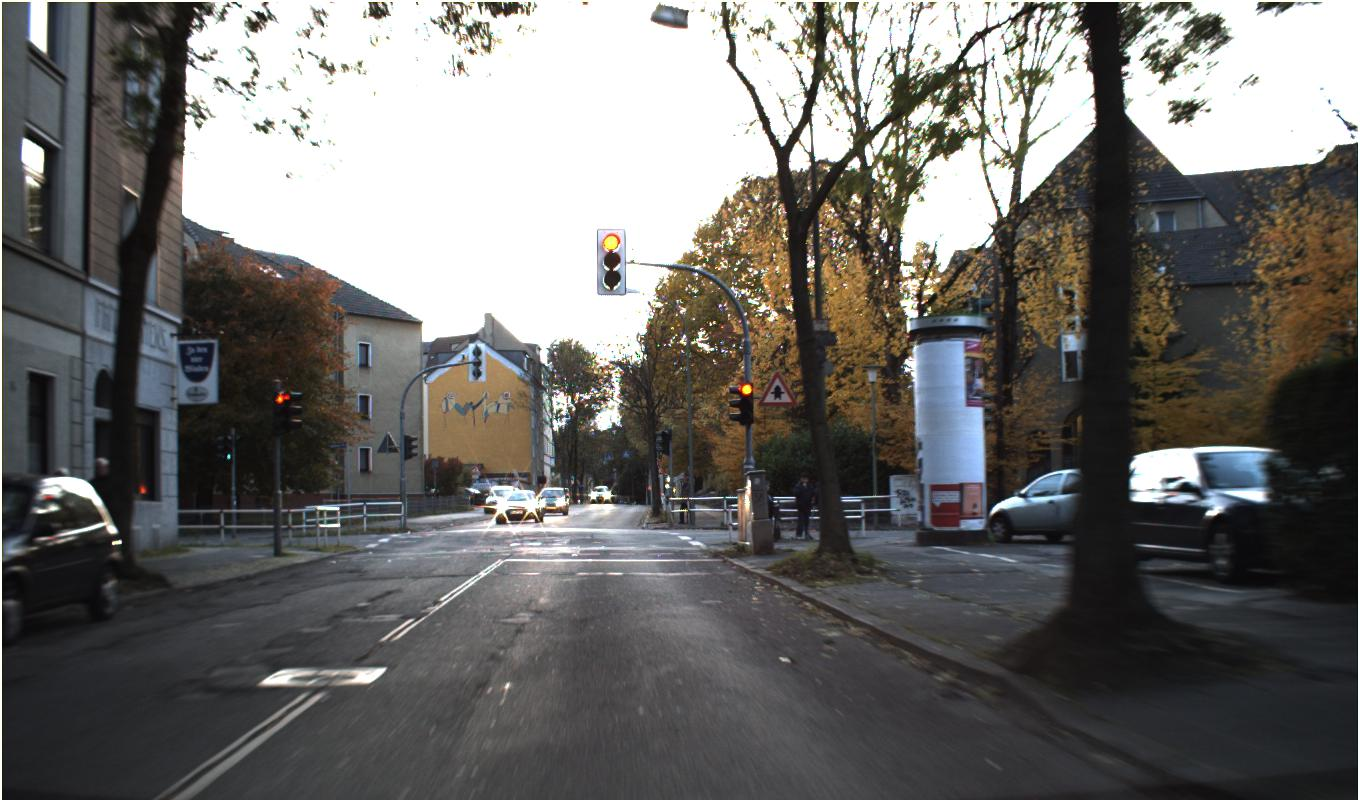danger: (755, 368, 799, 408)
